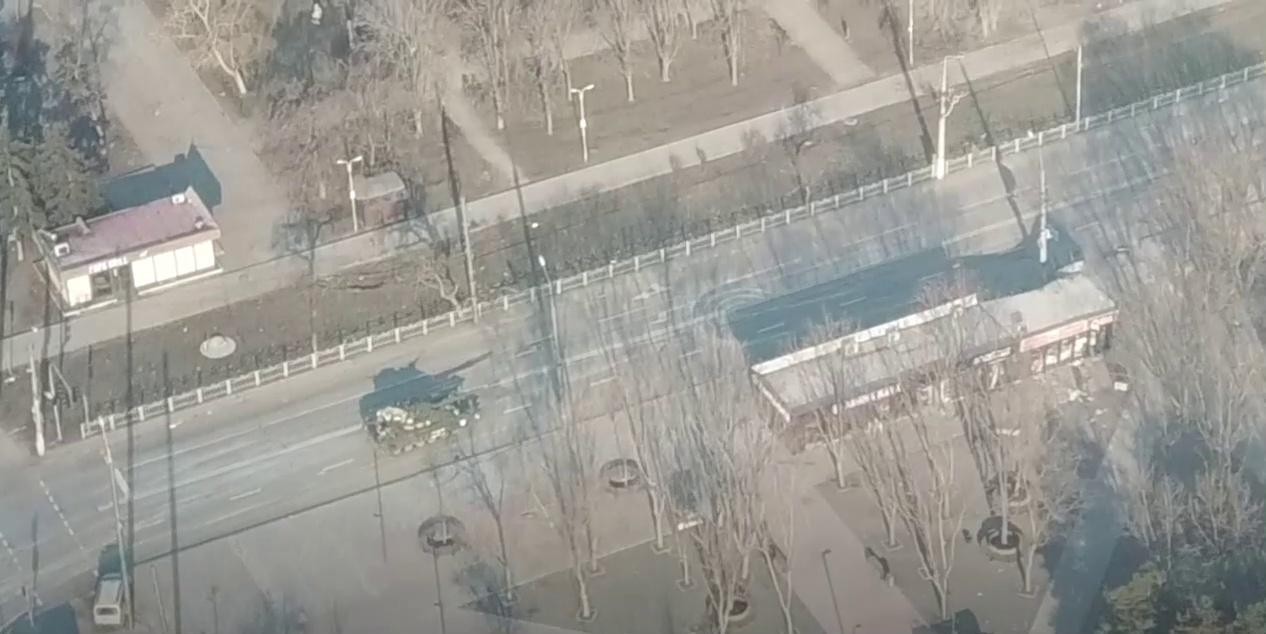tank: (360, 377, 505, 456)
